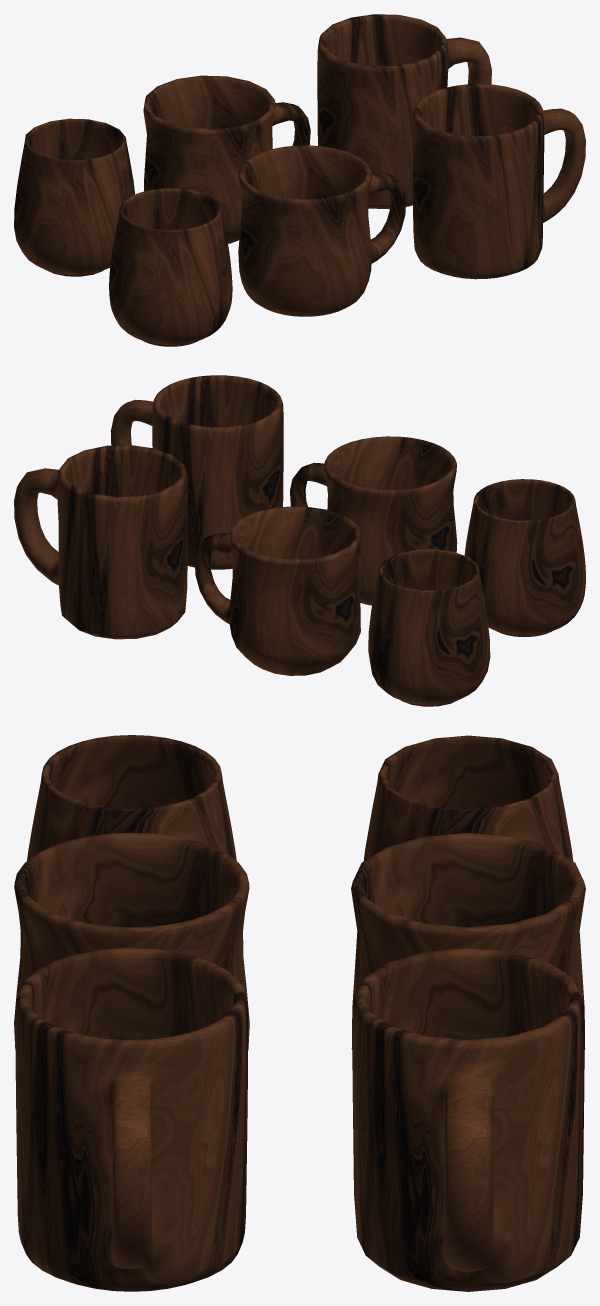
The model's file is CUP.fbx.
3 renders of one model, top to bottom at view 1: azimuth 30°, elevation 25°; view 2: azimuth 150°, elevation 25°; view 3: azimuth 270°, elevation 25°, orthographic. The views are drawn at different scales.
Visible parts, largest first — view 1: cup03, cup02, cup03_LP, cup01, cup01_LP, cup02_LP; view 2: cup03_LP, cup02_LP, cup03, cup01_LP, cup01, cup02; view 3: cup03, cup03_LP, cup02_LP, cup02, cup01, cup01_LP.
Part boxes in pixels (<box>): cup03: <box>412,84,585,279</box>; cup02: <box>238,145,406,316</box>; cup03_LP: <box>317,14,491,208</box>; cup01: <box>109,188,232,346</box>; cup01_LP: <box>14,118,134,276</box>; cup02_LP: <box>143,75,310,243</box>; cup03_LP: <box>14,445,187,639</box>; cup02_LP: <box>194,506,361,675</box>; cup03: <box>110,375,283,569</box>; cup01_LP: <box>368,549,490,706</box>; cup01: <box>464,479,585,636</box>; cup02: <box>290,436,457,605</box>; cup03: <box>15,948,247,1291</box>; cup03_LP: <box>352,948,584,1291</box>; cup02_LP: <box>351,832,585,1049</box>; cup02: <box>14,832,249,1050</box>; cup01: <box>27,735,236,860</box>; cup01_LP: <box>363,735,573,860</box>.
Size of the model in its own units: 913 by 275 by 550.
3 materials, 3 textured.
